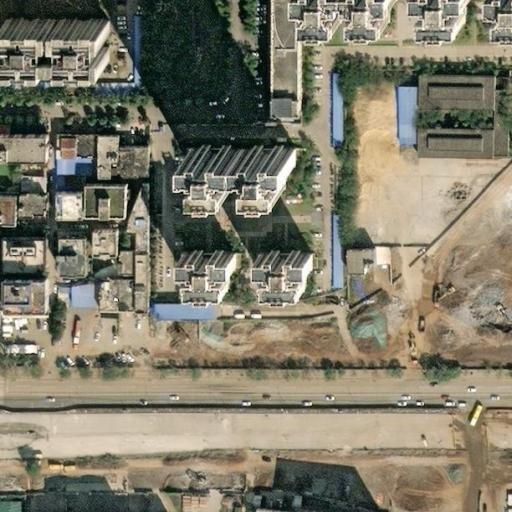building: (411, 116, 504, 159), (413, 77, 512, 117), (50, 21, 99, 68), (275, 54, 309, 121), (319, 61, 343, 150), (191, 142, 246, 180), (246, 143, 301, 181), (253, 253, 308, 291), (173, 255, 228, 292), (385, 85, 412, 152), (9, 285, 57, 320), (10, 139, 57, 170), (94, 136, 125, 182), (90, 191, 128, 223), (57, 139, 89, 177), (63, 237, 90, 280), (10, 170, 50, 196), (17, 196, 50, 227), (60, 279, 94, 309), (93, 237, 126, 265), (344, 252, 376, 277), (116, 281, 138, 317), (57, 195, 84, 223), (113, 251, 138, 281), (449, 0, 485, 20), (97, 281, 116, 315), (136, 257, 152, 294), (330, 0, 361, 18), (376, 247, 402, 266), (138, 293, 152, 321), (54, 177, 80, 192), (0, 284, 9, 320)
